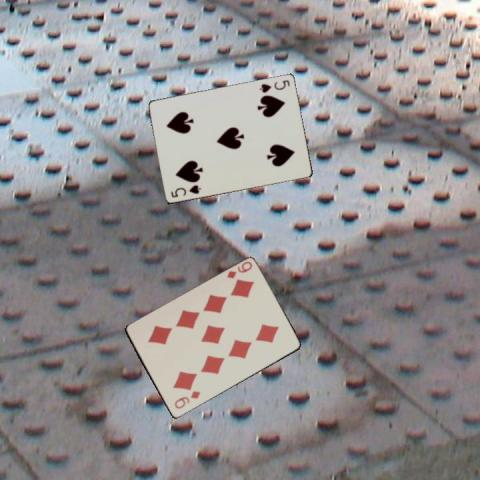5s: (168, 182, 203, 199), (257, 77, 291, 94)
9d: (171, 388, 202, 411), (224, 258, 253, 280)
